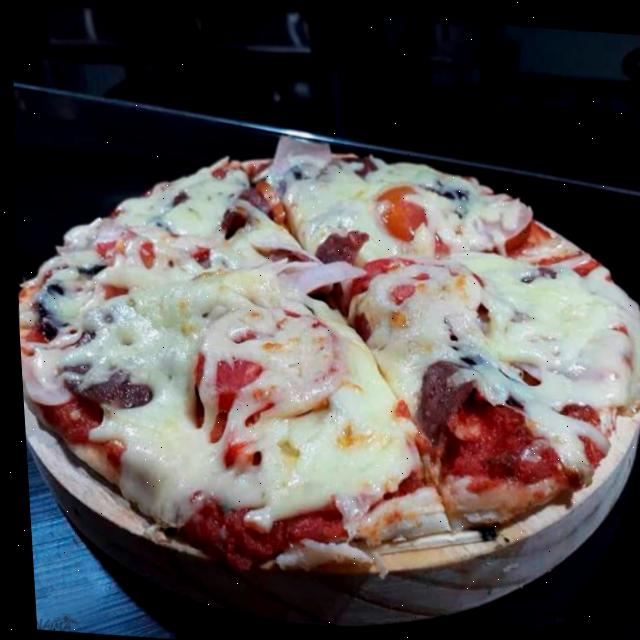pepperoni: (49, 333, 154, 415), (406, 348, 478, 429), (299, 221, 370, 267), (215, 182, 271, 229)
pizza: (6, 119, 640, 594)
tomatoes: (179, 303, 345, 422), (365, 173, 530, 256), (347, 250, 486, 311), (89, 223, 210, 269), (251, 173, 285, 221)
